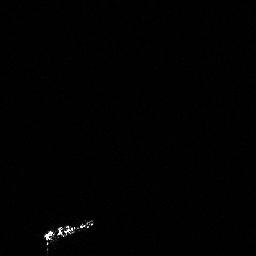ship: (40, 216, 96, 253)
